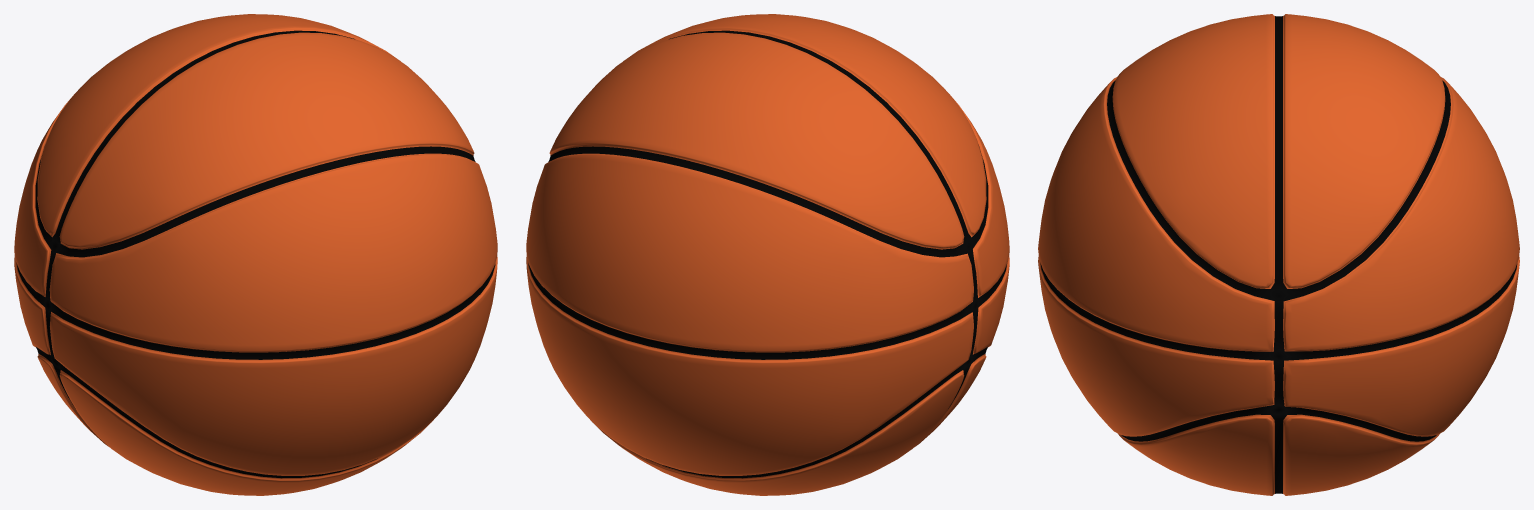
File: Basketball.glb
3 views of the same model, side by side, from view 1: azimuth 30°, elevation 25°; view 2: azimuth 150°, elevation 25°; view 3: azimuth 270°, elevation 25° (orthographic).
Visible parts, largest first — view 1: Cube; view 2: Cube; view 3: Cube.
Boxes of the visible parts, box(x1,y1,x2,y2) form: Cube: box(14, 14, 497, 495); Cube: box(526, 14, 1009, 495); Cube: box(1038, 14, 1519, 495).
Bounding box in the file's own units: 1.63 × 1.63 × 1.63.
